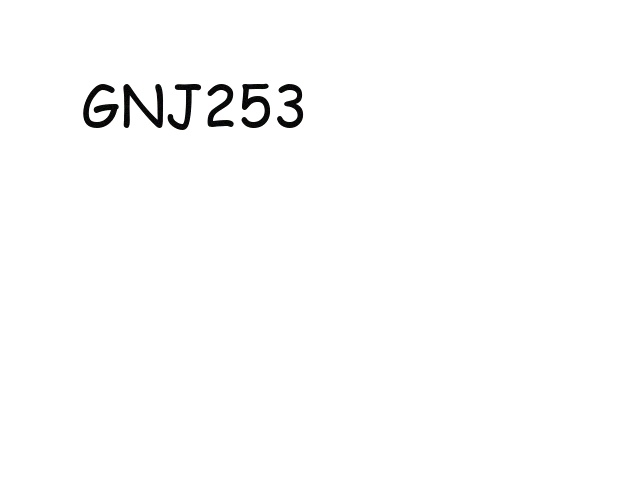OCR_AREA: (77, 79, 312, 134)
